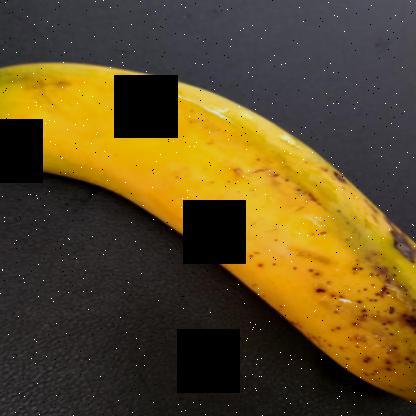ripe: (3, 58, 416, 415)
